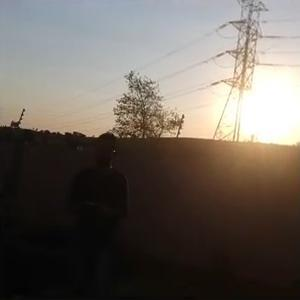follow: (67, 120, 145, 298)
